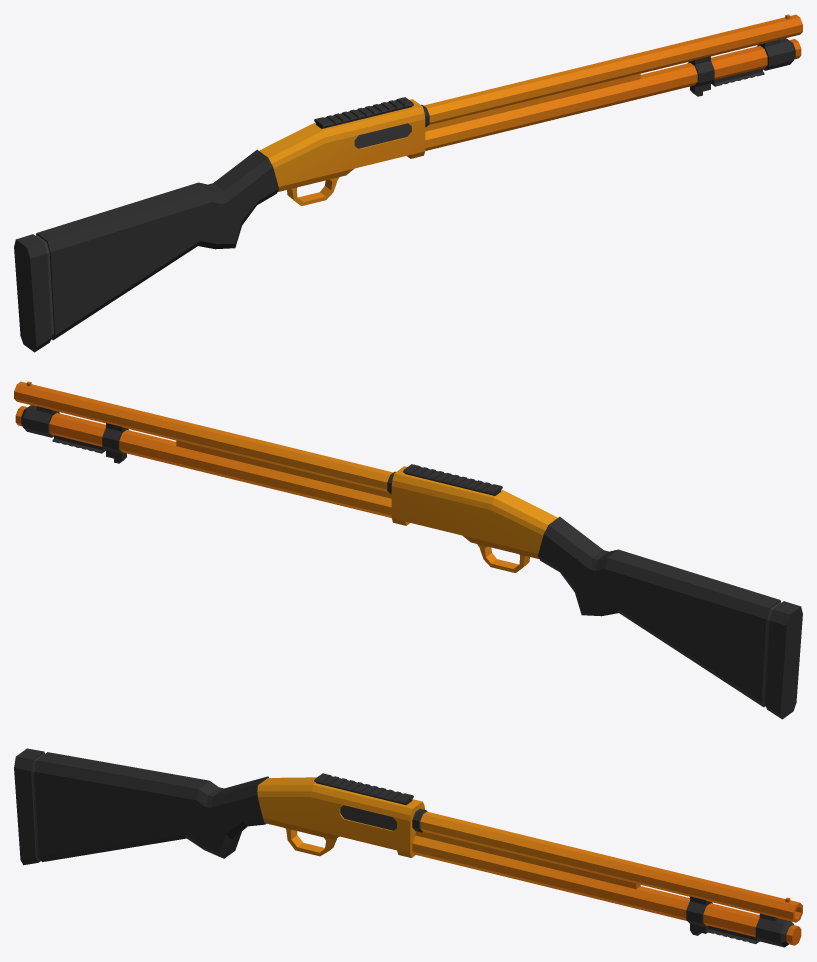
The model's file is Shotgun3_05.fbx.
3 renders of one model, top to bottom at view 1: azimuth 30°, elevation 25°; view 2: azimuth 150°, elevation 25°; view 3: azimuth 330°, elevation 25°, orthographic.
Visible parts, largest first — view 1: Shotgun3_05; view 2: Shotgun3_05; view 3: Shotgun3_05.
Boxes of the visible parts, box(x1,y1,x2,y2) form: Shotgun3_05: box(14, 14, 802, 352); Shotgun3_05: box(14, 381, 802, 719); Shotgun3_05: box(14, 748, 802, 947).
Size of the model in its own units: 1.18 by 0.226 by 0.0424.
